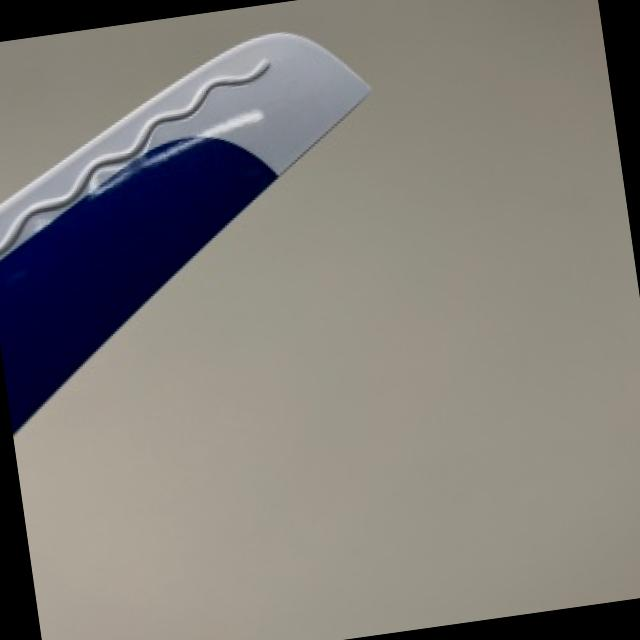healthy: (0, 32, 372, 428)
